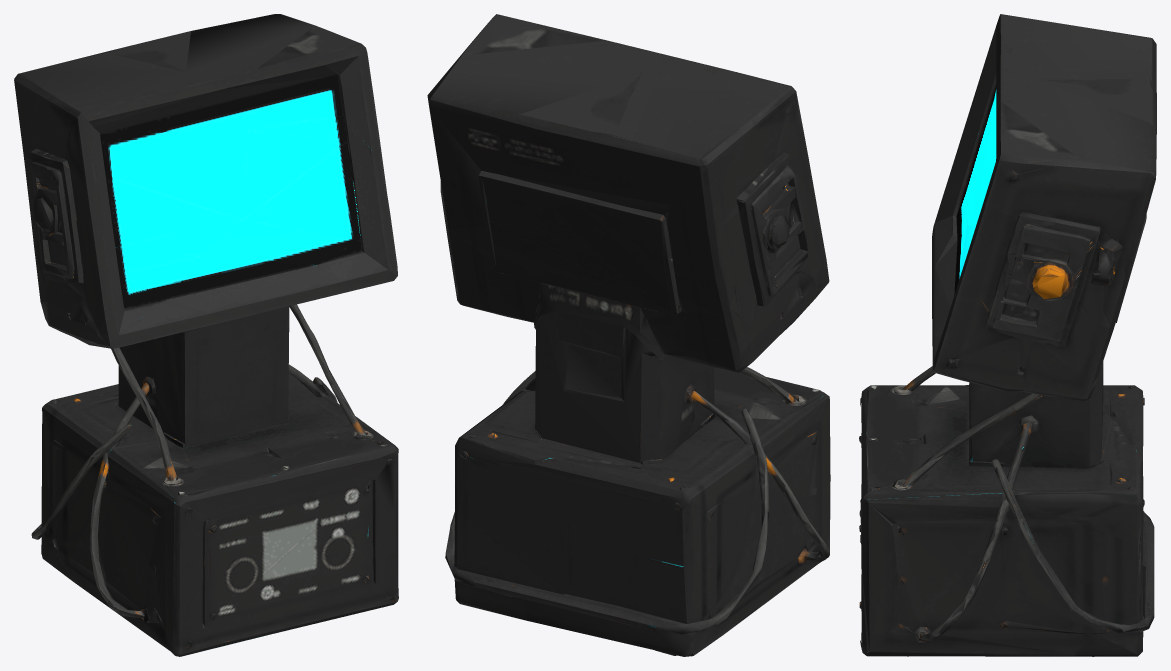
The model's file is obj_terminal_v1.glb.
The picture shows the model from 3 angles, left to right: view 1: azimuth 30°, elevation 25°; view 2: azimuth 150°, elevation 25°; view 3: azimuth 270°, elevation 25°; orthographic projection. The views are drawn at different scales.
Bounding box in the file's own units: 1.23 × 1.9 × 0.9668.
Materials: 1 (1 with a texture image).
